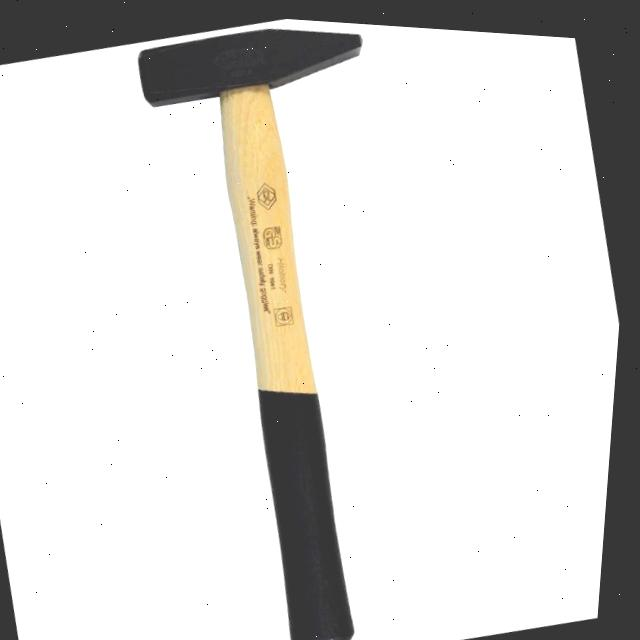hammer: (88, 7, 509, 640)
